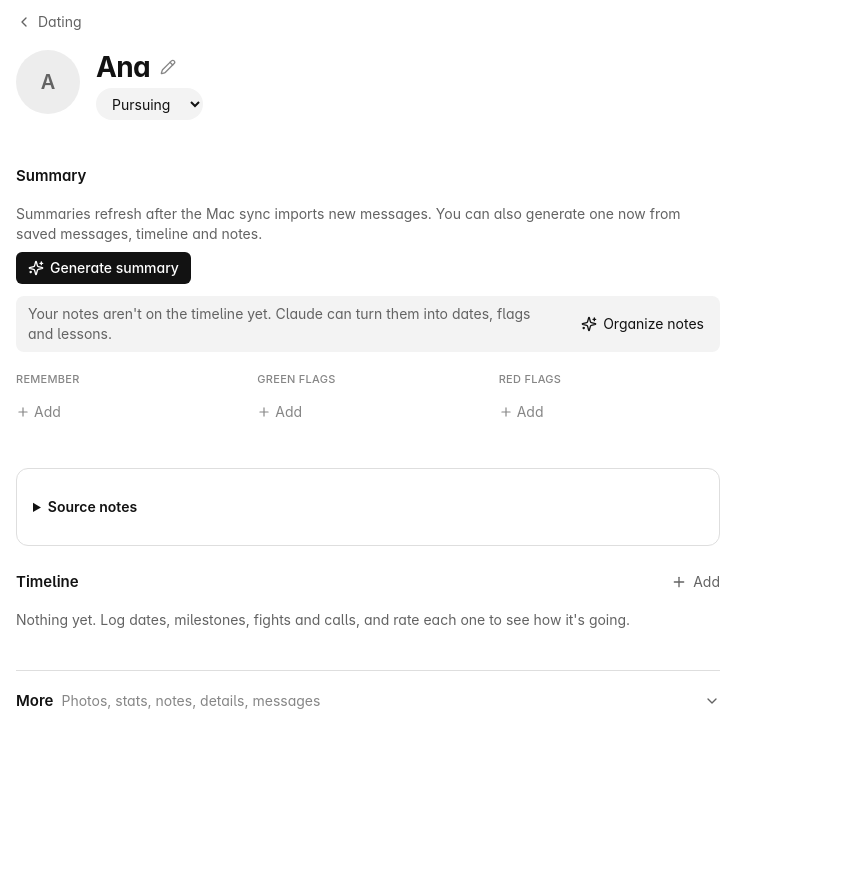
Test: dating request recovery › retries reading the thread after a rejected request
The width and height of the screenshot is (865, 882).
What coordinates should you click on to do the following:
click the button "Generate summary"
I would click on:
 (103, 268)
Its box is x1=16 y1=252 x2=191 y2=284.
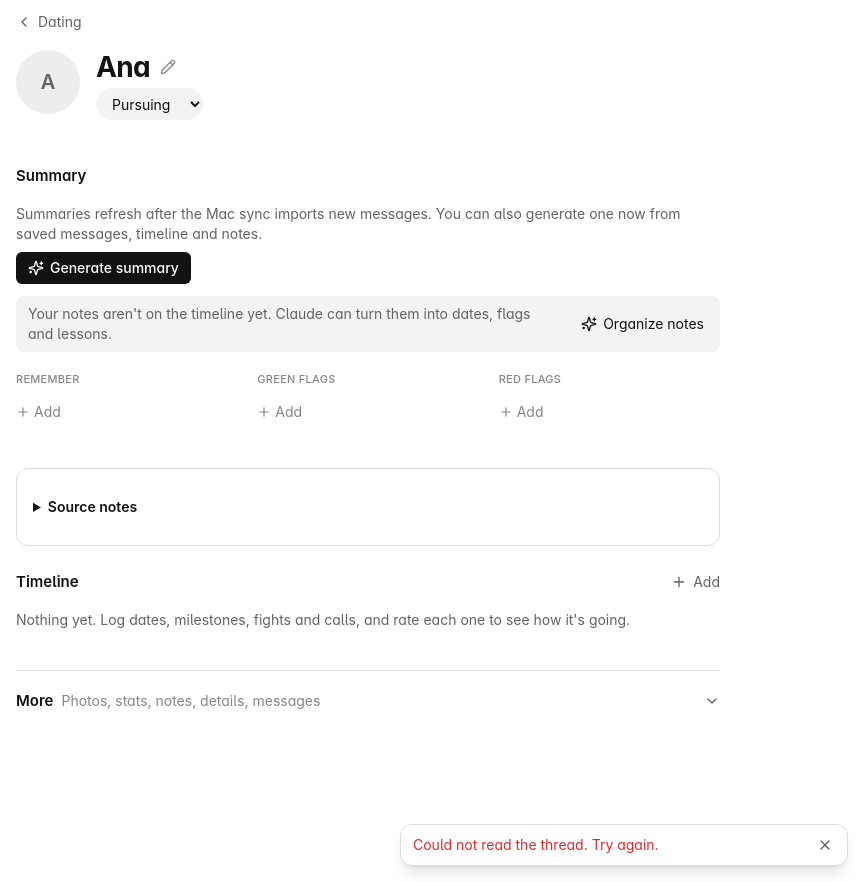
Result: the message "Could not read the thread. Try again." is shown at x1=400 y1=824 x2=848 y2=866
What coordinates should you click on to do the following:
click the button "Generate summary"
I would click on:
 (103, 268)
Its box is x1=16 y1=252 x2=191 y2=284.
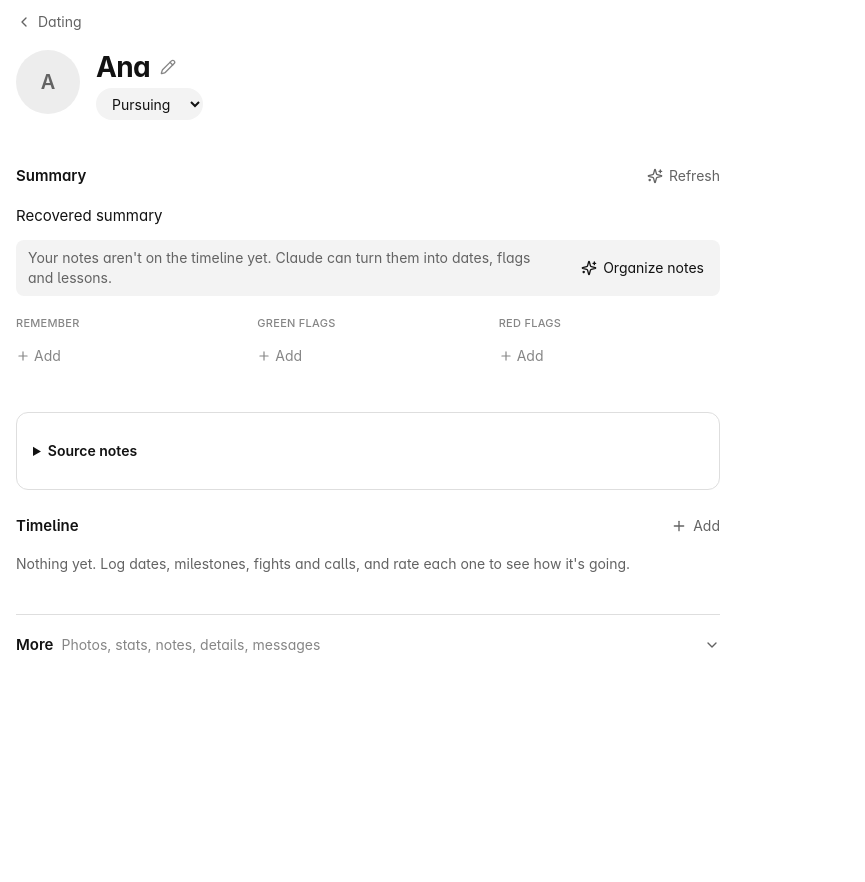
Result: the text "Recovered summary" is shown at x1=16 y1=206 x2=162 y2=225
